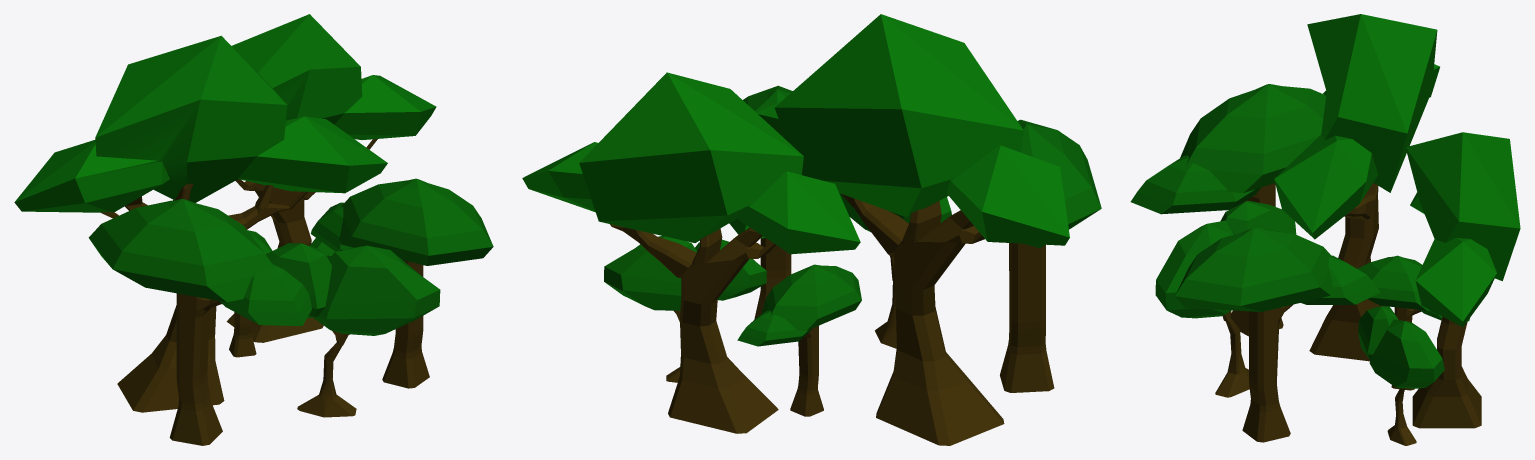
Rendered from TreeGroup.fbx.
3 views of the same model, side by side, from view 1: azimuth 30°, elevation 25°; view 2: azimuth 150°, elevation 25°; view 3: azimuth 270°, elevation 25° (orthographic). The views are drawn at different scales.
Visible parts, largest first — view 1: TreeGroup; view 2: TreeGroup; view 3: TreeGroup.
Boxes of the visible parts, left/top/right/bottom form: TreeGroup: left=14, top=14, right=493, bottom=445; TreeGroup: left=522, top=14, right=1101, bottom=445; TreeGroup: left=1130, top=14, right=1520, bottom=445.
Size of the model in its own units: 2444 by 1776 by 1792.
